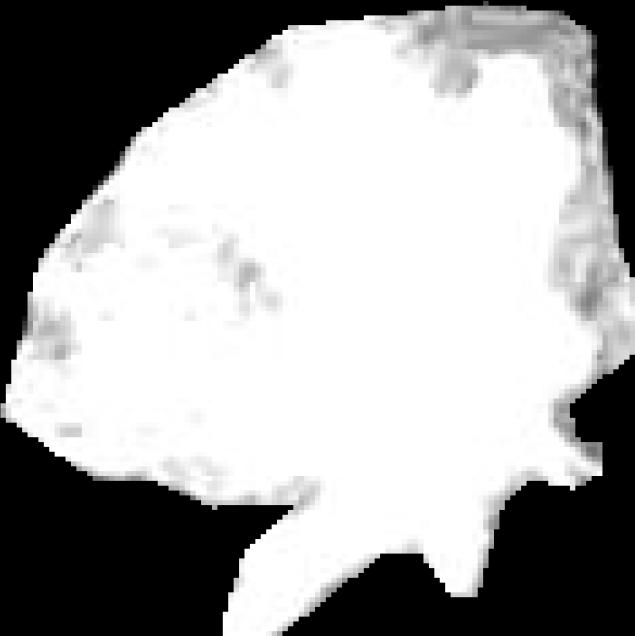tumor_moderate_chance: (0, 1, 635, 636)
